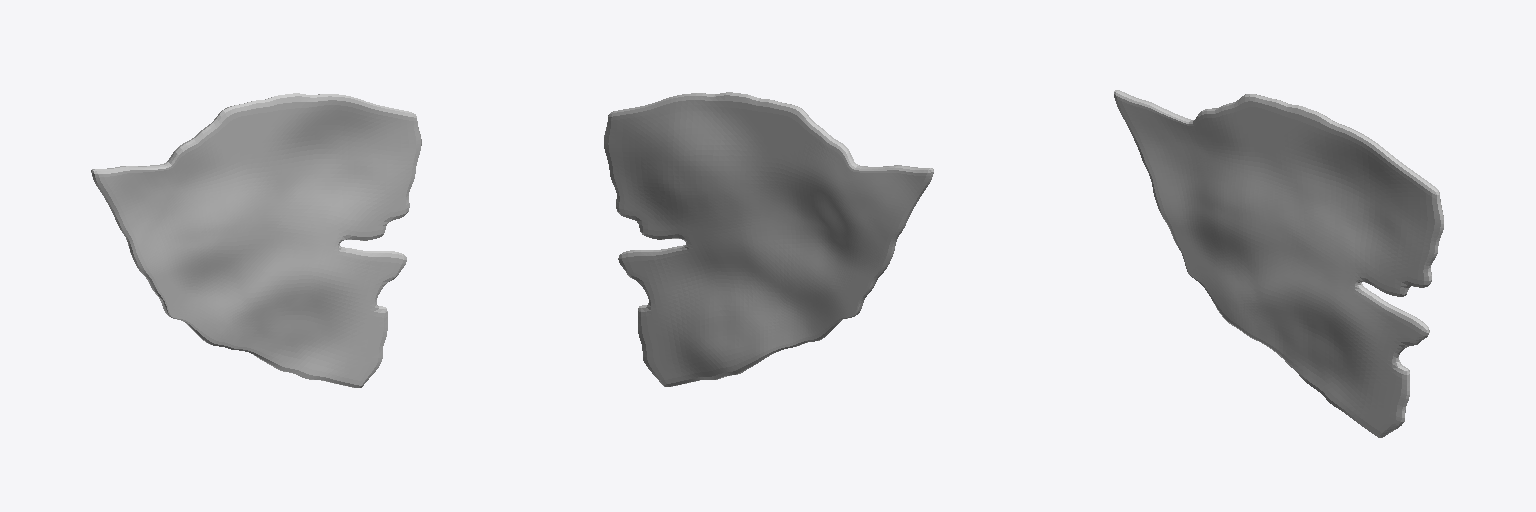
Rendered from Microplastic particle1.obj.
3 renders of one model, left to right at view 1: azimuth 30°, elevation 25°; view 2: azimuth 150°, elevation 25°; view 3: azimuth 330°, elevation 25°, orthographic.
Visible parts, largest first — view 1: Plane; view 2: Plane; view 3: Plane.
Boxes of the visible parts, x1=… form: Plane: x1=91, y1=93, x2=421, y2=387; Plane: x1=604, y1=92, x2=933, y2=386; Plane: x1=1114, y1=90, x2=1443, y2=437.
Size of the model in its own units: 3.08 by 2.79 by 0.2372.